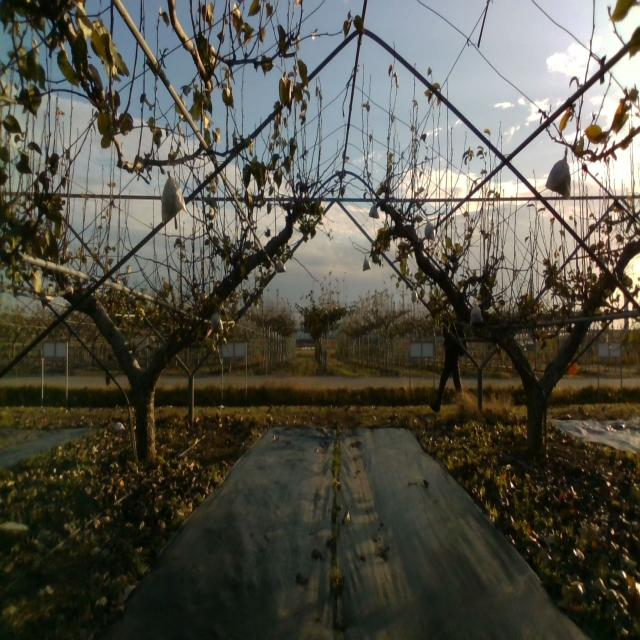pearbags: (545, 146, 571, 198), (160, 176, 188, 224), (210, 306, 224, 334), (470, 299, 483, 326), (424, 222, 436, 242), (369, 205, 380, 219)
